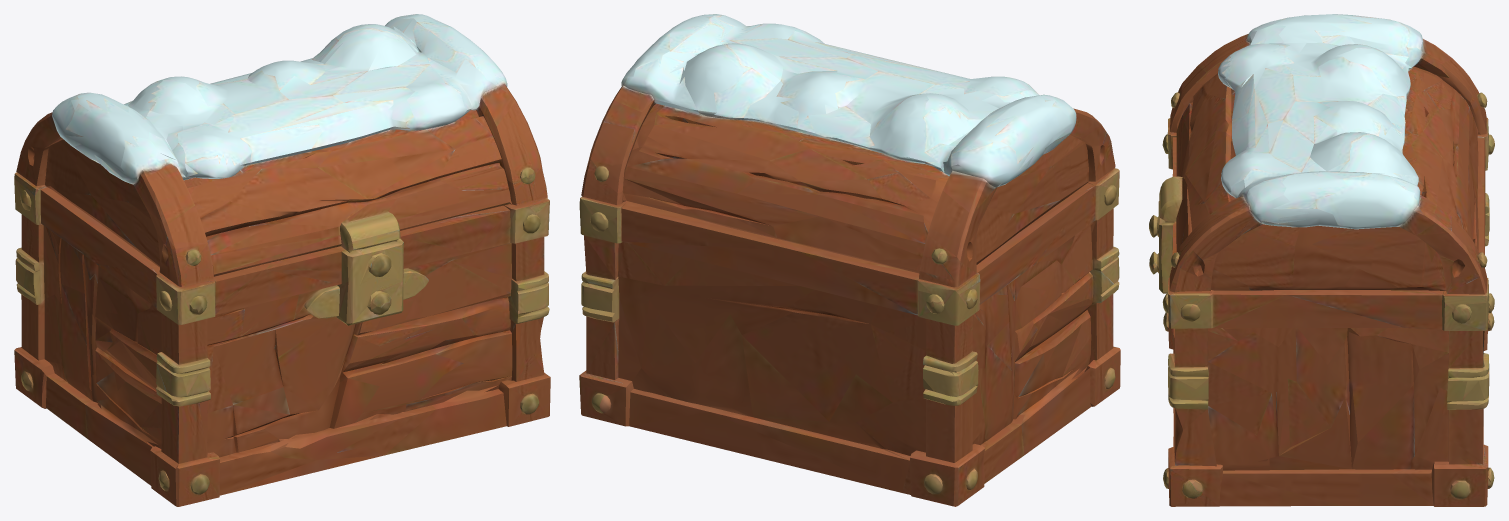
The model's file is treasure_chest.glb.
3 renders of one model, left to right at view 1: azimuth 30°, elevation 25°; view 2: azimuth 150°, elevation 25°; view 3: azimuth 270°, elevation 25°, orthographic. The views are drawn at different scales.
Bounding box in the file's own units: 1.9 × 1.6 × 1.51.
Materials: 1 (1 with a texture image).
